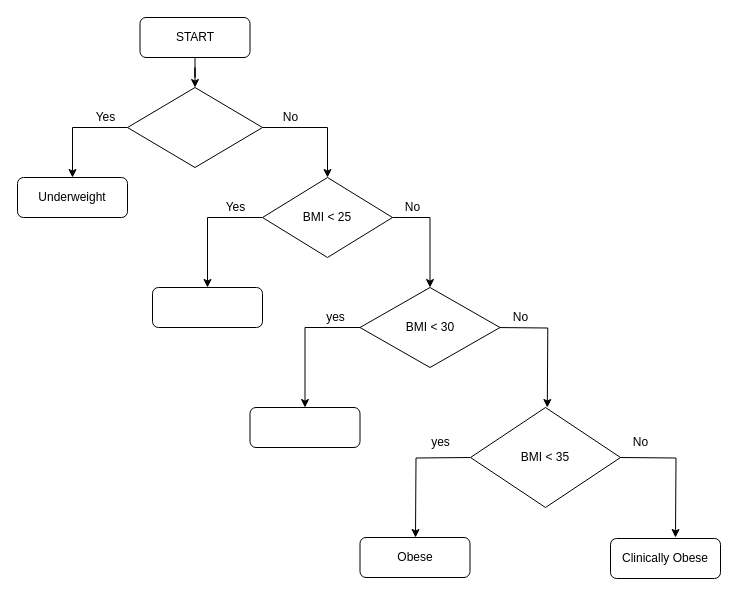
Image size: 738x596. Some labels were removed from this diagram. Each missing label, with the centre of its shape:
"BMI < 18.5" goes at (x=194, y=127).
"Normal weight" goes at (x=207, y=307).
"Slightly Over Weight" goes at (x=304, y=427).
